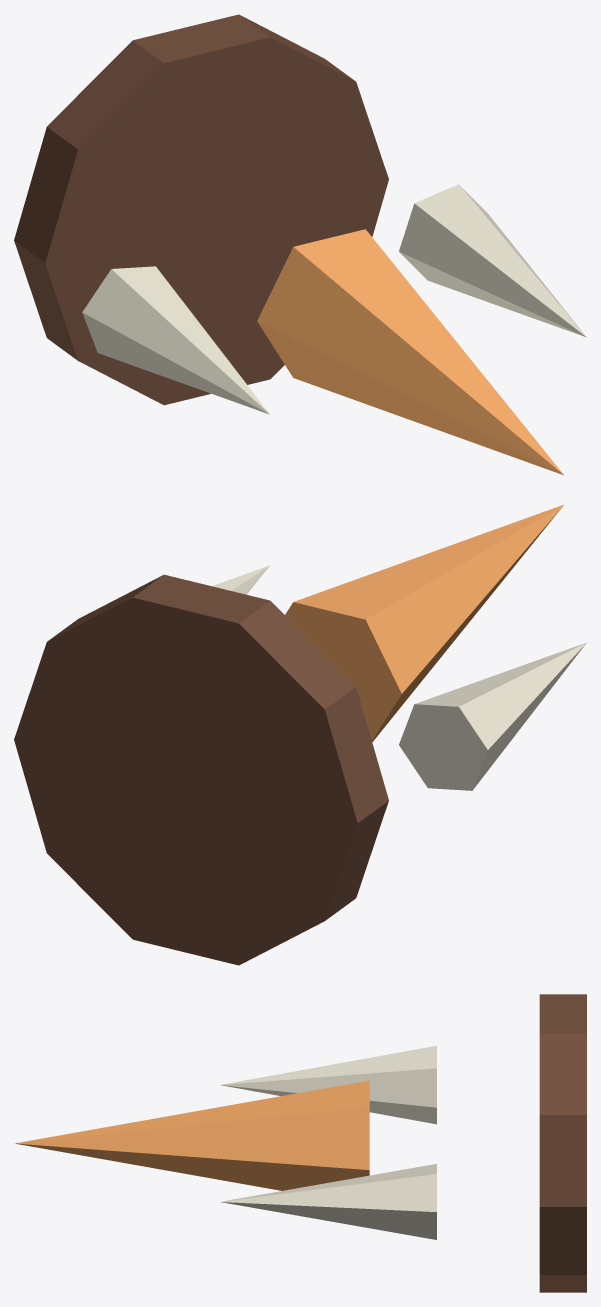
Rendered from 02_low_poly_silhouette_overlay_2.glb.
3 views of the same model, one above another, from view 1: azimuth 30°, elevation 25°; view 2: azimuth 150°, elevation 25°; view 3: azimuth 270°, elevation 25° (orthographic). The views are drawn at different scales.
Parts seen in each view (by area): view 1: socket_base, silhouette_spike_main, silhouette_spike_l, silhouette_spike_r; view 2: socket_base, silhouette_spike_main, silhouette_spike_l, silhouette_spike_r; view 3: silhouette_spike_main, socket_base, silhouette_spike_r, silhouette_spike_l.
Part boxes in pixels (x1=…): socket_base: x1=14, y1=14, x2=388, y2=405; silhouette_spike_main: x1=257, y1=229, x2=563, y2=475; silhouette_spike_l: x1=82, y1=266, x2=269, y2=414; silhouette_spike_r: x1=399, y1=184, x2=586, y2=337; socket_base: x1=14, y1=574, x2=388, y2=965; silhouette_spike_main: x1=285, y1=504, x2=563, y2=741; silhouette_spike_l: x1=399, y1=642, x2=586, y2=790; silhouette_spike_r: x1=212, y1=565, x2=269, y2=594; silhouette_spike_main: x1=14, y1=1080, x2=369, y2=1190; socket_base: x1=539, y1=994, x2=586, y2=1292; silhouette_spike_r: x1=220, y1=1164, x2=436, y2=1239; silhouette_spike_l: x1=220, y1=1045, x2=436, y2=1124.
Bounding box in the file's own units: 0.897 × 0.7228 × 1.45.
